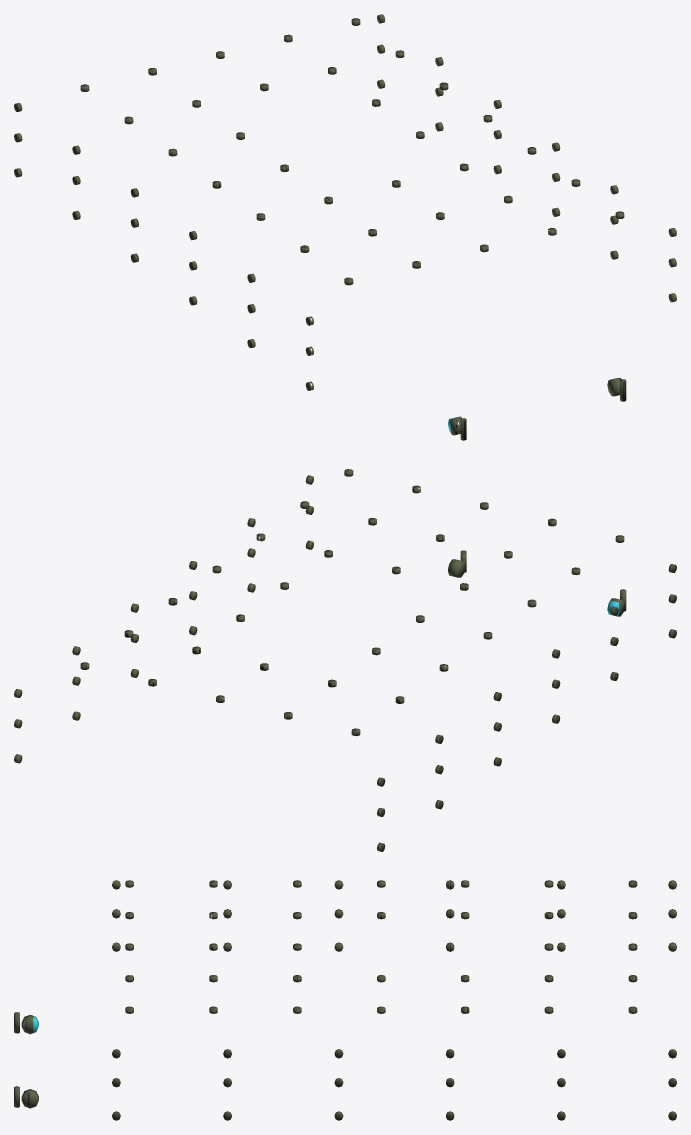
File: medium_tank_bolts.obj
3 renders of one model, top to bottom at view 1: azimuth 30°, elevation 25°; view 2: azimuth 150°, elevation 25°; view 3: azimuth 270°, elevation 25°, orthographic. The views are drawn at different scales.
Parts seen in each view (by area): view 1: BoltsAndFasteners; view 2: BoltsAndFasteners; view 3: BoltsAndFasteners.
Boxes of the visible parts, x1,y1,x2,y2 form: BoltsAndFasteners: [14, 14, 676, 440]; BoltsAndFasteners: [14, 469, 676, 851]; BoltsAndFasteners: [14, 880, 676, 1120].
Bounding box in the file's own units: 3.29 × 1.12 × 5.41.
